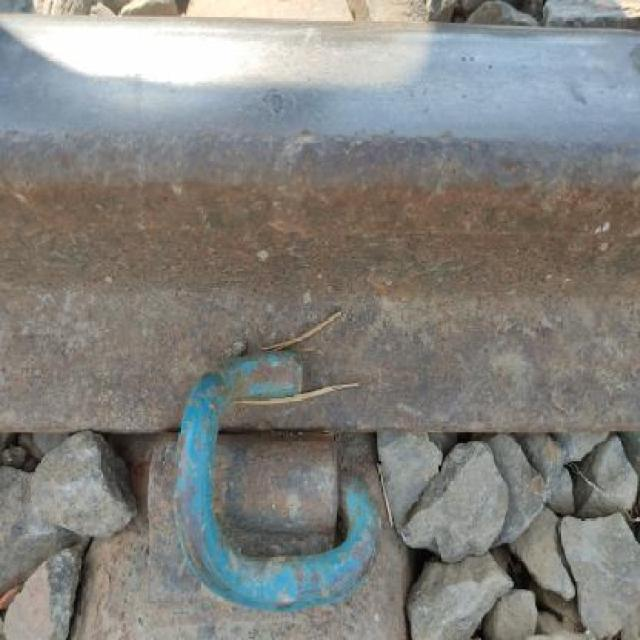non-defective: (7, 0, 640, 446)
